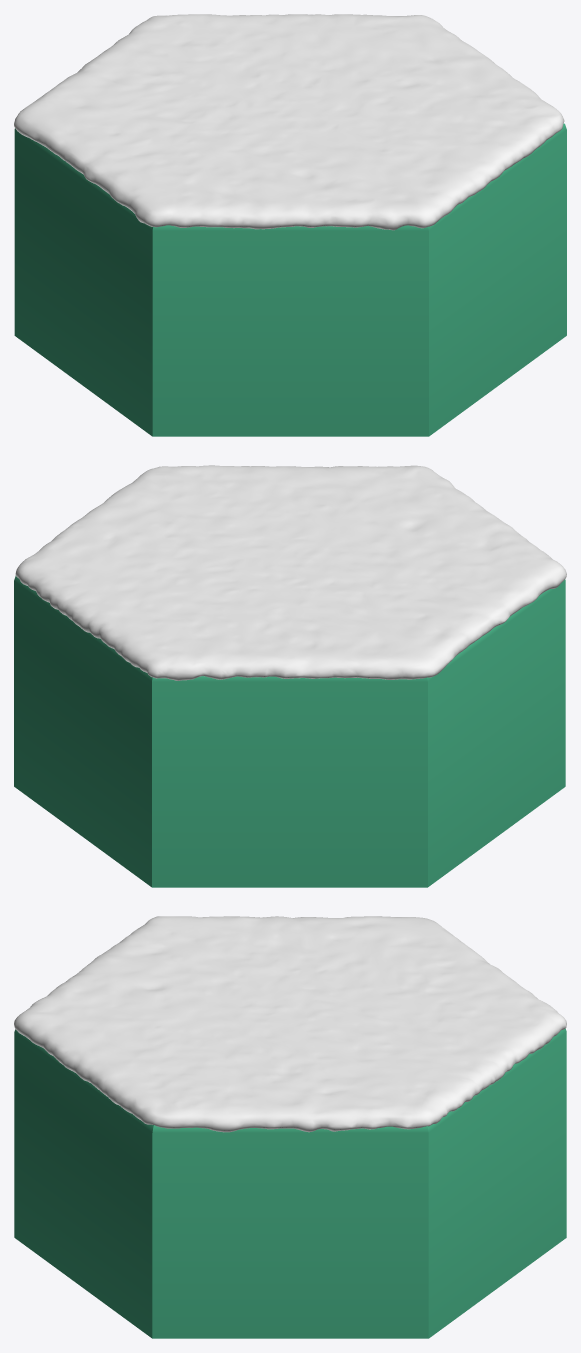
Rendered from snow_hex_forest.fbx.
The picture shows the model from 3 angles, top to bottom: view 1: azimuth 30°, elevation 25°; view 2: azimuth 150°, elevation 25°; view 3: azimuth 270°, elevation 25°; orthographic projection.
Visible parts, largest first — view 1: hex_forest, SnowBall.001; view 2: hex_forest, SnowBall.001; view 3: hex_forest, SnowBall.001.
Part boxes in pixels (bbox=[...]): hex_forest: bbox=[14, 123, 566, 436]; SnowBall.001: bbox=[14, 14, 564, 230]; hex_forest: bbox=[14, 575, 565, 887]; SnowBall.001: bbox=[15, 465, 566, 680]; hex_forest: bbox=[14, 1028, 566, 1338]; SnowBall.001: bbox=[14, 916, 566, 1132].
Size of the model in its own units: 204 by 104 by 231.
